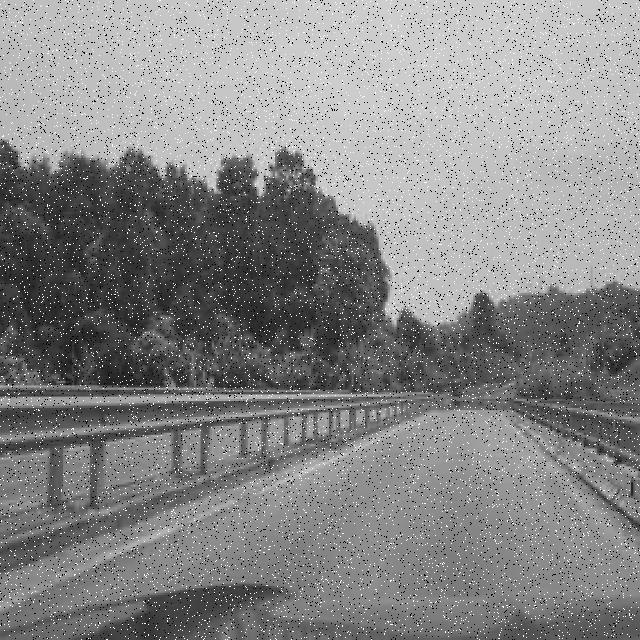clear-road: (23, 413, 640, 618)
